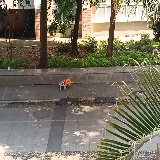fire: (63, 77, 73, 86)
